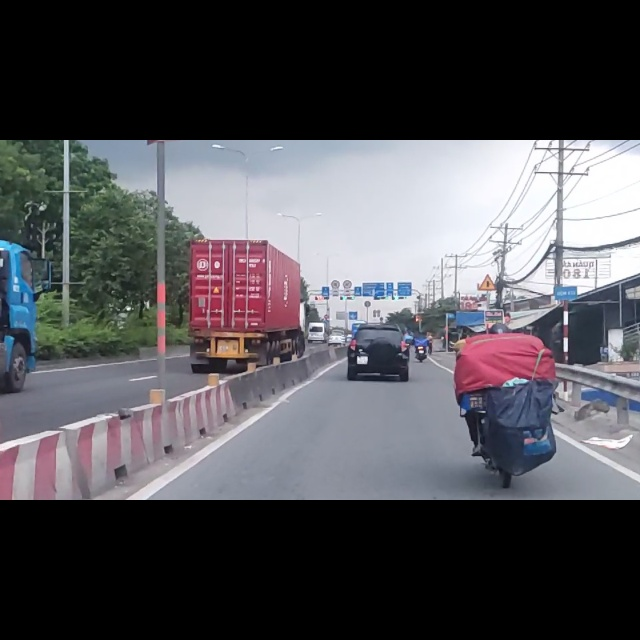bien_chi_dan: (477, 237, 497, 269)
